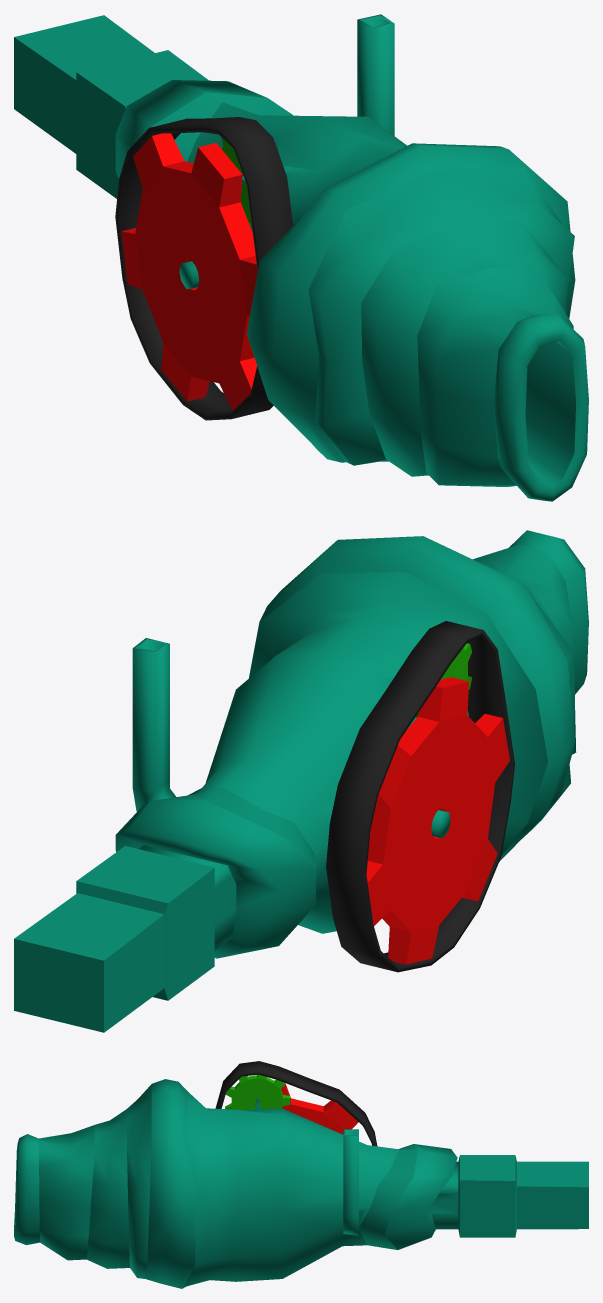
File: BaseGun_V1.fbx
3 views of the same model, one above another, from view 1: azimuth 30°, elevation 25°; view 2: azimuth 150°, elevation 25°; view 3: azimuth 270°, elevation 25° (orthographic). The views are drawn at different scales.
Visible parts, largest first — view 1: Gun, GearBig, Thingy; view 2: Gun, GearBig, Thingy, GearSmall; view 3: Gun, Thingy, GearSmall, GearBig.
Part boxes in pixels (x1,y1,x2,y2): Gun: [14, 14, 588, 501]; GearBig: [121, 133, 257, 410]; Thingy: [115, 117, 293, 420]; Gun: [14, 530, 588, 1032]; GearBig: [366, 677, 509, 964]; Thingy: [326, 621, 514, 972]; GearSmall: [415, 643, 471, 719]; Gun: [14, 1079, 588, 1288]; Thingy: [215, 1061, 377, 1146]; GearSmall: [225, 1074, 290, 1110]; GearBig: [281, 1083, 358, 1134].
Bounding box in the file's own units: 29.05 × 29.18 × 79.59.
